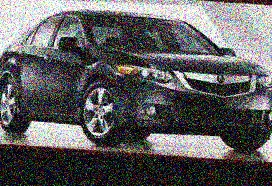car: (0, 0, 272, 158)
